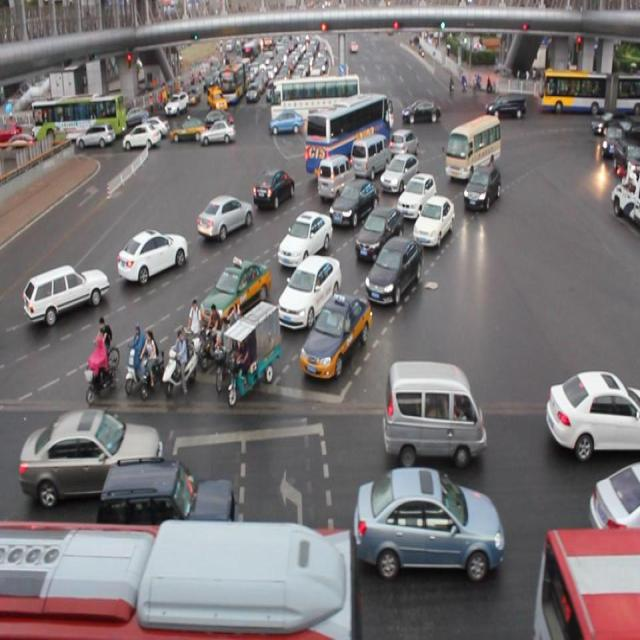car: (356, 464, 505, 578), (22, 410, 166, 503), (98, 452, 237, 534), (544, 368, 640, 462), (298, 298, 371, 380), (199, 255, 272, 334), (24, 259, 109, 322), (276, 252, 342, 330), (362, 231, 423, 307), (117, 225, 187, 282), (587, 462, 640, 537), (277, 210, 332, 268), (352, 207, 402, 262), (197, 193, 253, 241), (328, 177, 379, 225), (412, 194, 455, 247), (254, 168, 298, 208), (381, 148, 420, 190), (398, 172, 438, 212), (463, 167, 498, 206), (390, 126, 418, 162)
truck: (382, 353, 485, 465), (444, 115, 501, 178), (351, 134, 392, 178), (315, 156, 353, 202)
van: (1, 518, 358, 640), (528, 521, 640, 640), (306, 92, 392, 179)
